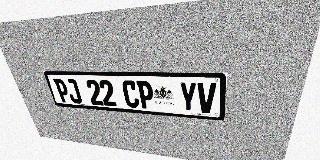2: (85, 79, 104, 105), (98, 80, 117, 106)
C: (121, 80, 140, 108)
J: (64, 79, 83, 104)
P: (136, 81, 155, 109), (53, 78, 72, 103)
V: (197, 82, 216, 114)
Y: (179, 82, 197, 112)
